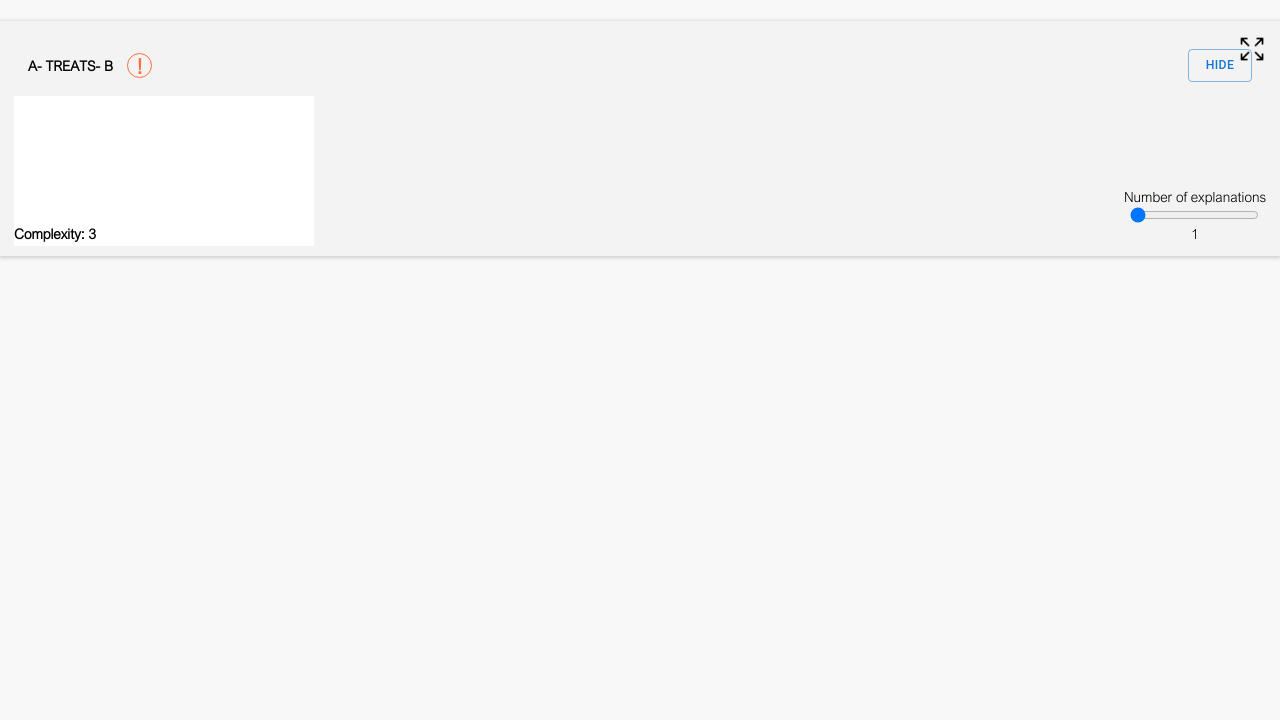
Test case: ExplanationRow › shows tooltip when negated and hovered
Hover over the icon "!" at (140, 66), box [127,53,152,78]
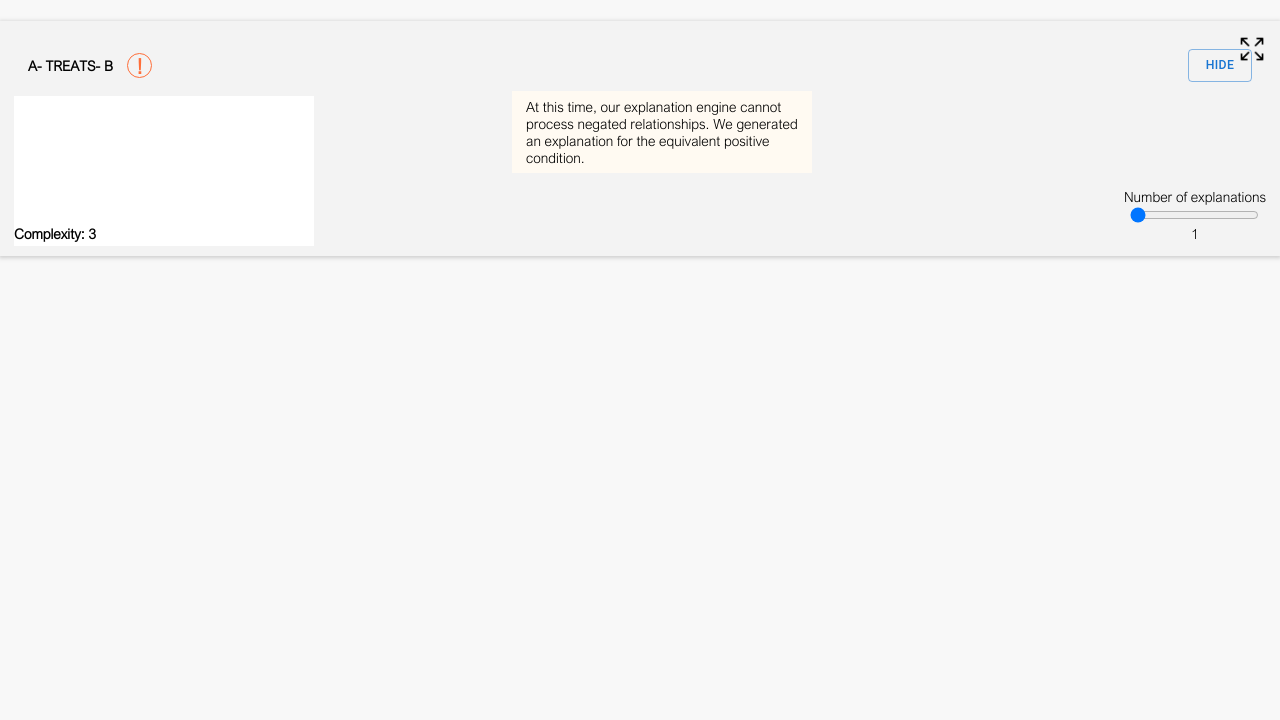
Expected: the text "cannot process negated relationships" is shown, [526,98,798,166]
Move the pointer off the icon "!", box [127,53,152,78]
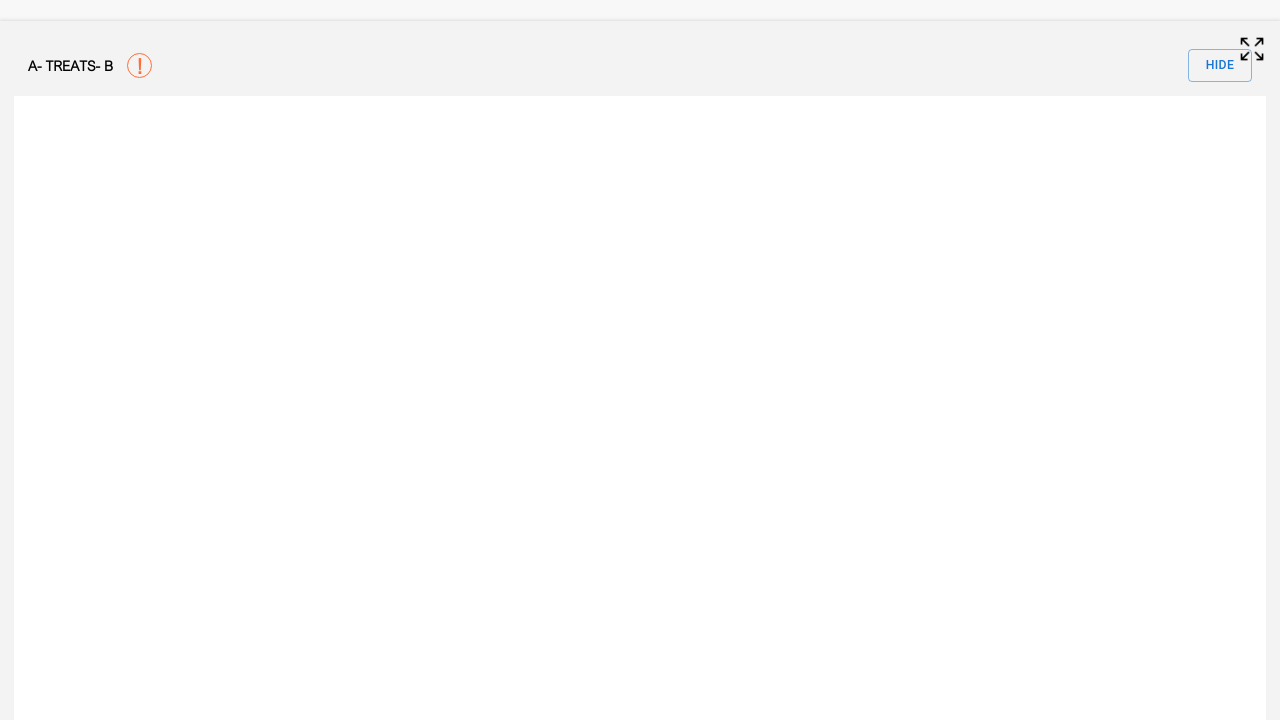
Expected: the text "cannot process negated relationships" is gone
